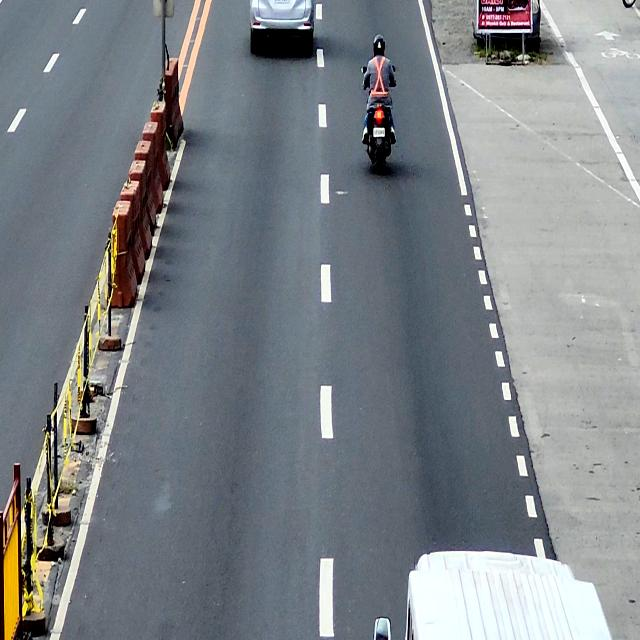Car: (249, 0, 314, 56)
License-Plate: (372, 127, 386, 138)
Motorcycle: (362, 64, 396, 175)
